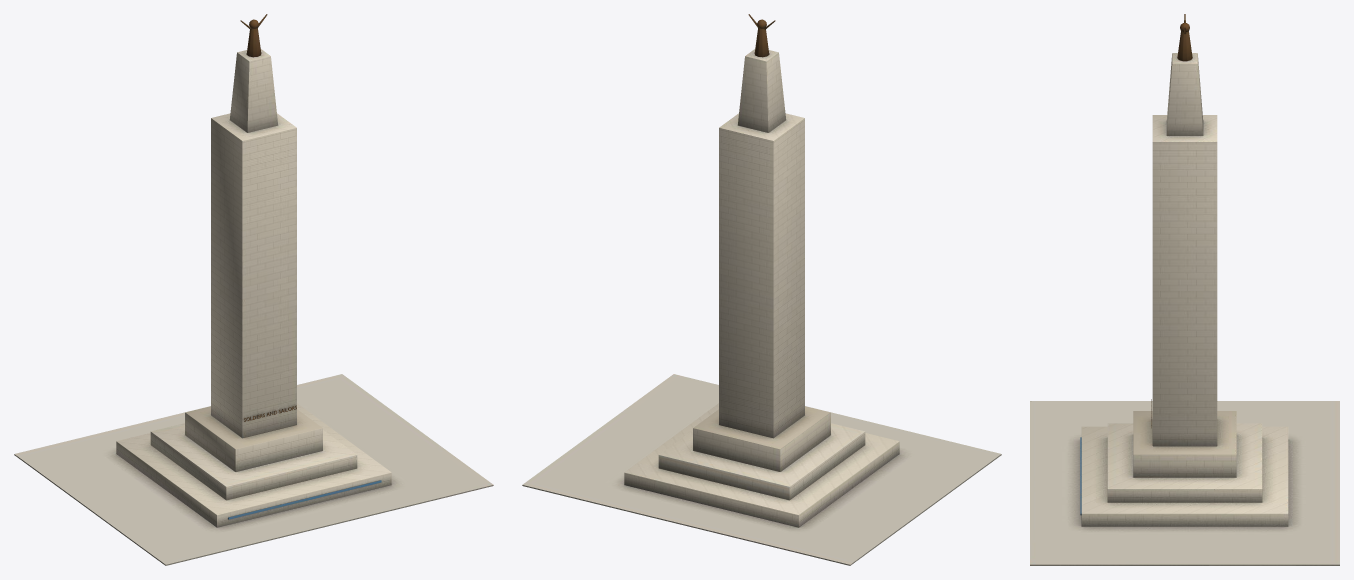
The model's file is soldiers_monument.glb.
3 views of the same model, side by side, from view 1: azimuth 30°, elevation 25°; view 2: azimuth 150°, elevation 25°; view 3: azimuth 270°, elevation 25° (orthographic). The views are drawn at different scales.
Parts seen in each view (by area): view 1: soldiers_monument; view 2: soldiers_monument; view 3: soldiers_monument.
Boxes of the visible parts, x1,y1,x2,y2 form: soldiers_monument: [14, 14, 493, 565]; soldiers_monument: [522, 14, 1001, 565]; soldiers_monument: [1030, 14, 1339, 565].
Bounding box in the file's own units: 30 × 39.63 × 24.
Materials: 1 (1 with a texture image).
